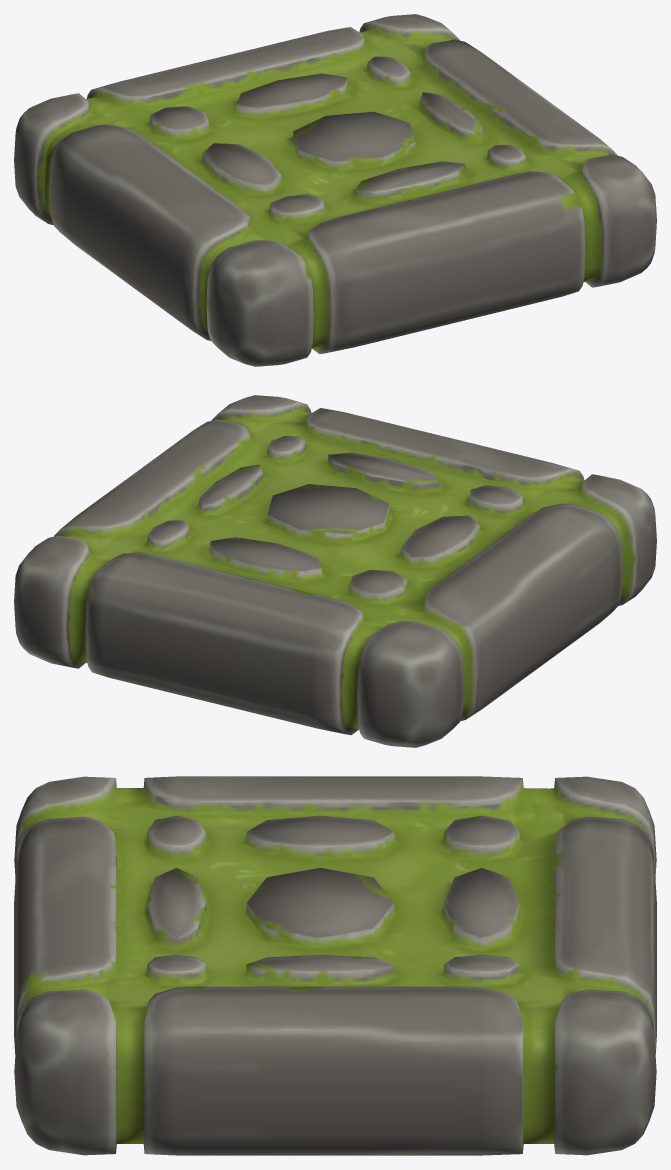
The model's file is arena block 5.fbx.
The picture shows the model from 3 angles, top to bottom: view 1: azimuth 30°, elevation 25°; view 2: azimuth 150°, elevation 25°; view 3: azimuth 270°, elevation 25°; orthographic projection. The views are drawn at different scales.
Parts seen in each view (by area): view 1: arena block 5 lp.002; view 2: arena block 5 lp.002; view 3: arena block 5 lp.002.
Boxes of the visible parts, x1,y1,x2,y2 form: arena block 5 lp.002: (14, 14, 656, 366); arena block 5 lp.002: (14, 395, 656, 747); arena block 5 lp.002: (14, 776, 656, 1155).
Size of the model in its own units: 200 by 49.94 by 200.
